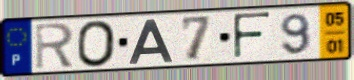7: (180, 14, 213, 64)
9: (278, 11, 316, 57)
A: (126, 18, 175, 65)
F: (231, 11, 274, 62)
O: (76, 18, 118, 69)
R: (34, 21, 76, 72)
